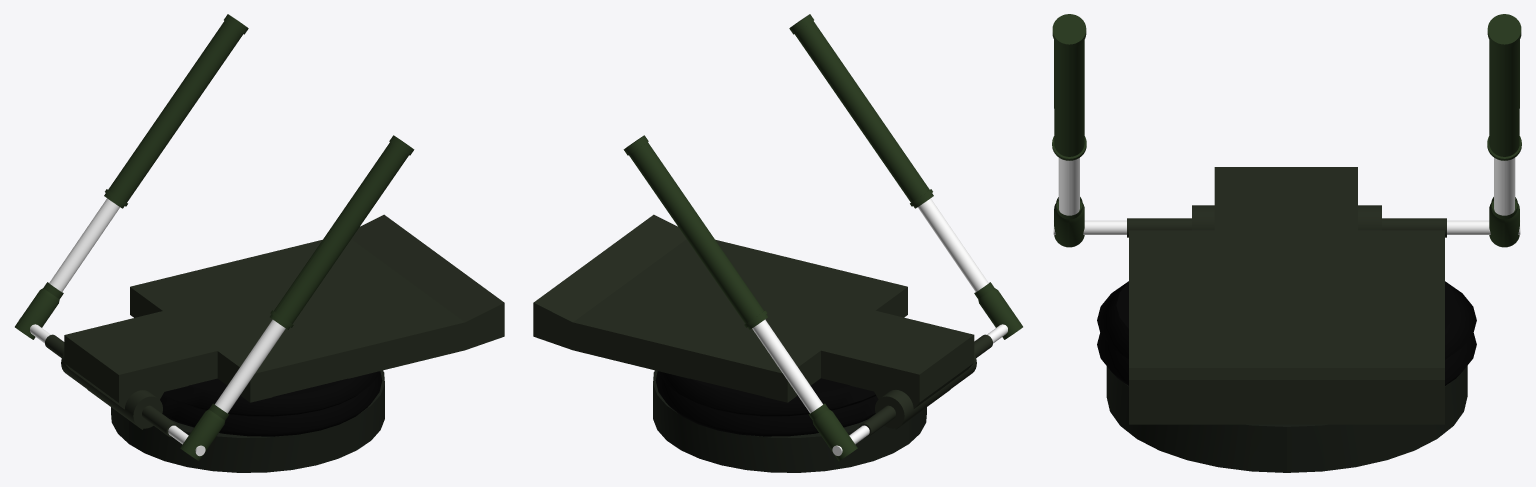
The model's file is krutylka.fbx.
The picture shows the model from 3 angles, left to right: view 1: azimuth 30°, elevation 25°; view 2: azimuth 150°, elevation 25°; view 3: azimuth 270°, elevation 25°; orthographic projection. The views are drawn at different scales.
Parts seen in each view (by area): view 1: крутилка; view 2: крутилка; view 3: крутилка.
Part boxes in pixels (<box>): крутилка: <box>15,14,504,472</box>; крутилка: <box>533,14,1022,472</box>; крутилка: <box>1052,14,1521,472</box>.
Size of the model in its own units: 2110 by 1844 by 1851.
